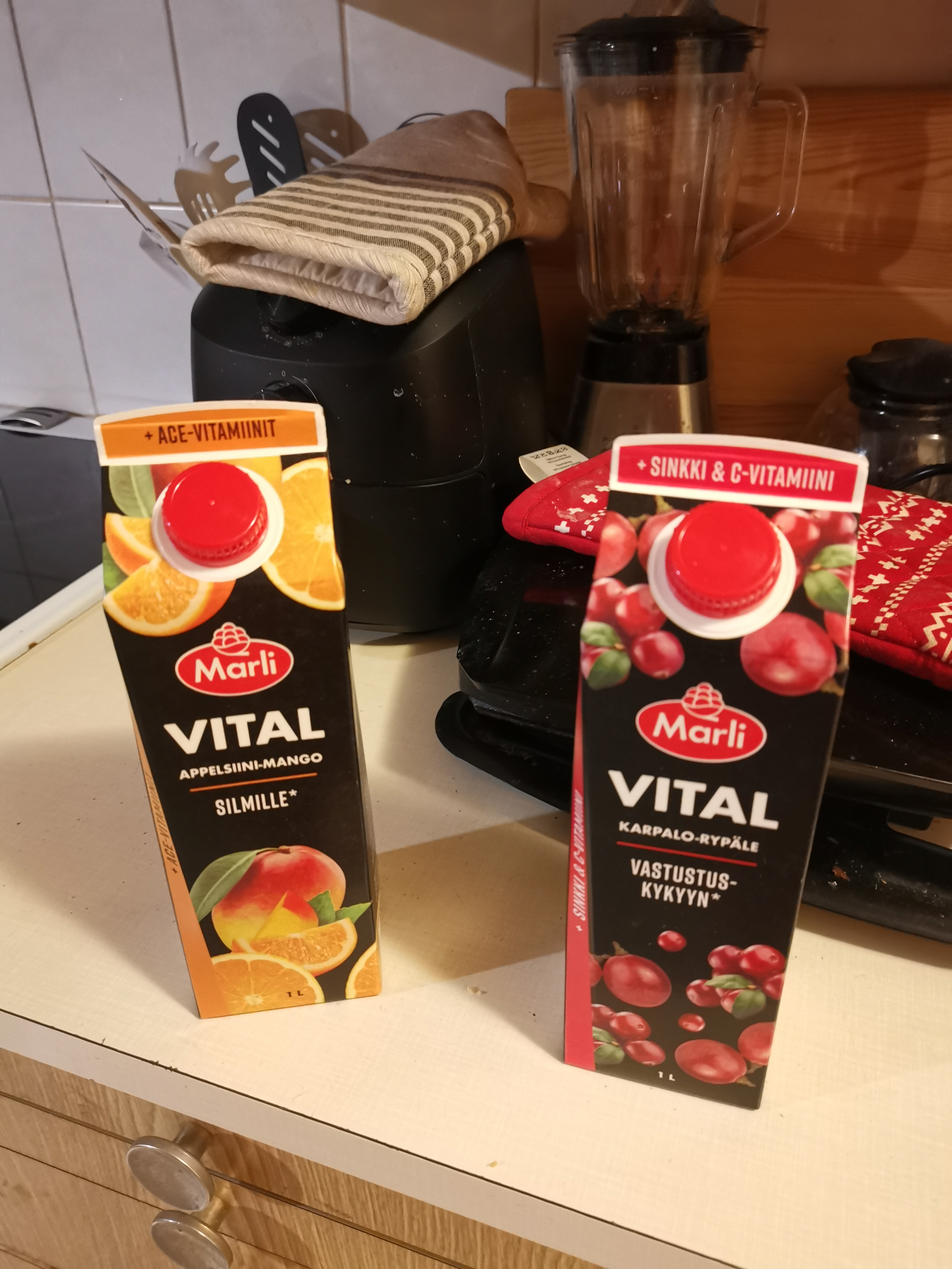Dryckeskartong: (607, 417, 880, 1087), (97, 396, 386, 1024)
